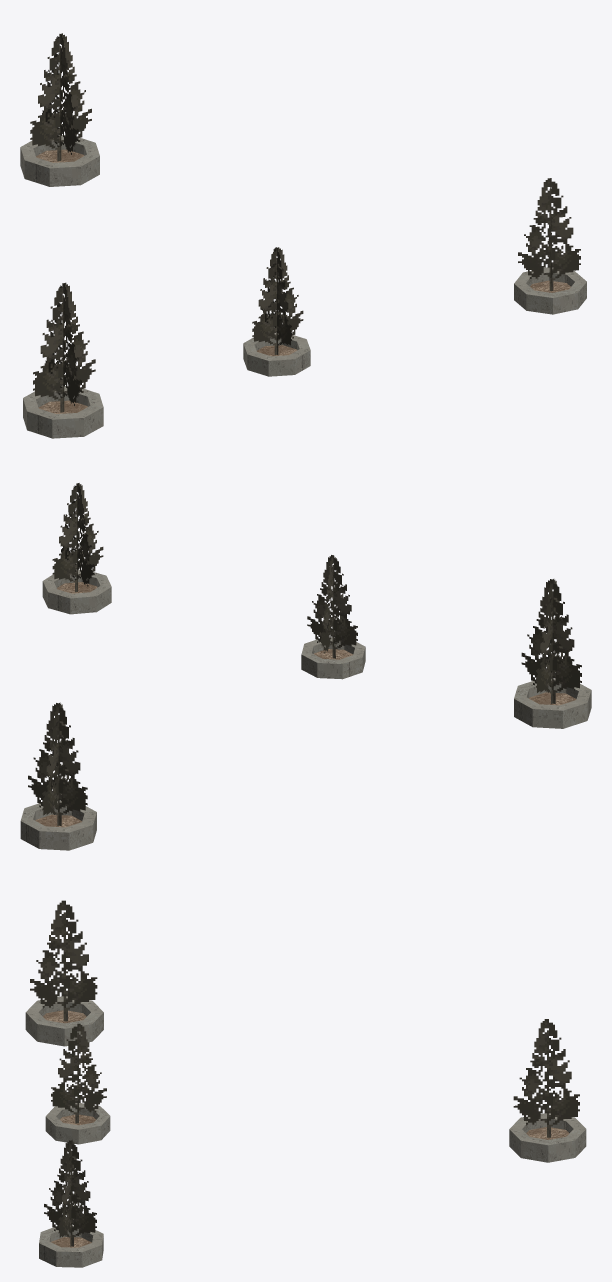
The model's file is procgen-procpain-tree-park-pine-large-x0z1.obj.
3 views of the same model, one above another, from view 1: azimuth 30°, elevation 25°; view 2: azimuth 150°, elevation 25°; view 3: azimuth 270°, elevation 25° (orthographic). The views are drawn at different scales.
Size of the model in its own units: 48.04 by 11.04 by 45.19.
